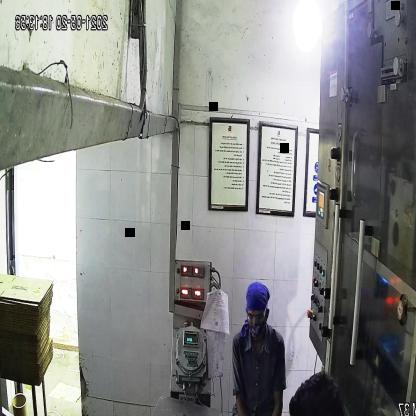goggles: (245, 303, 269, 326)
